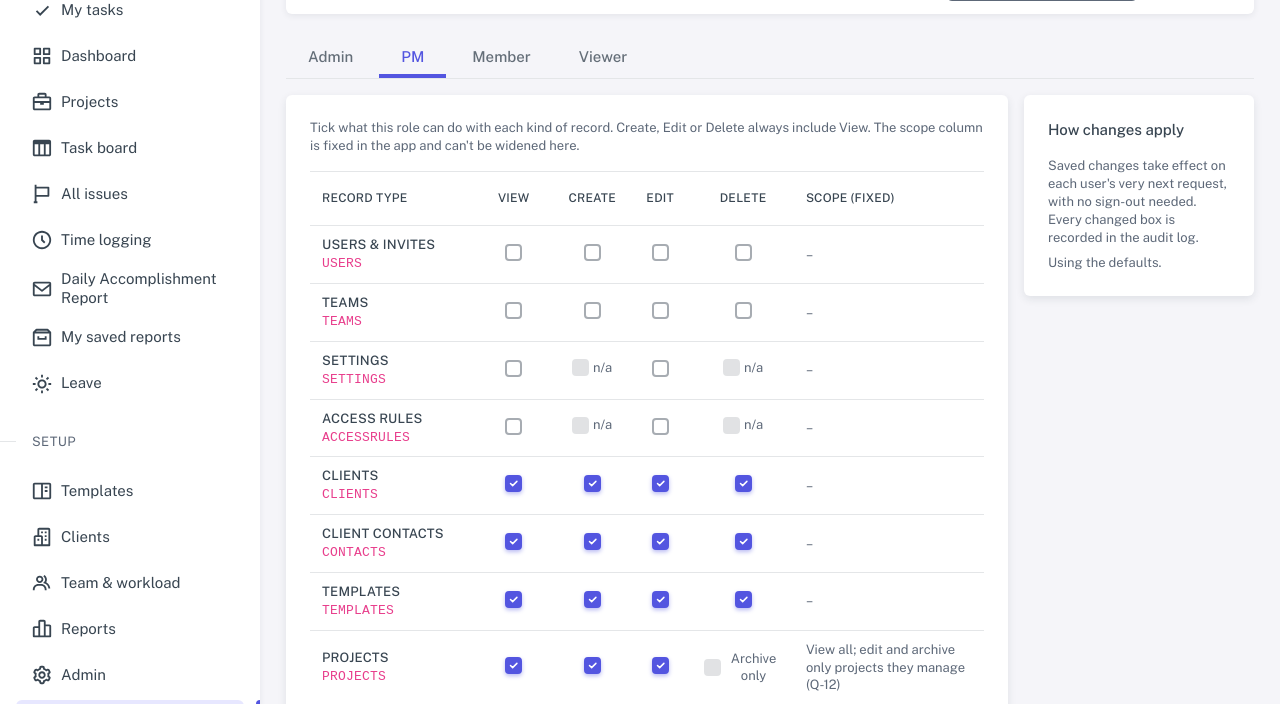
Test case: FR-ACL-14: the grid stays View/Create/Edit/Delete › Admin is locked full on both rows
This screenshot has width=1280, height=704.
Click the tab "Admin": click(331, 58) [286, 38, 375, 78]
(page scrolled)
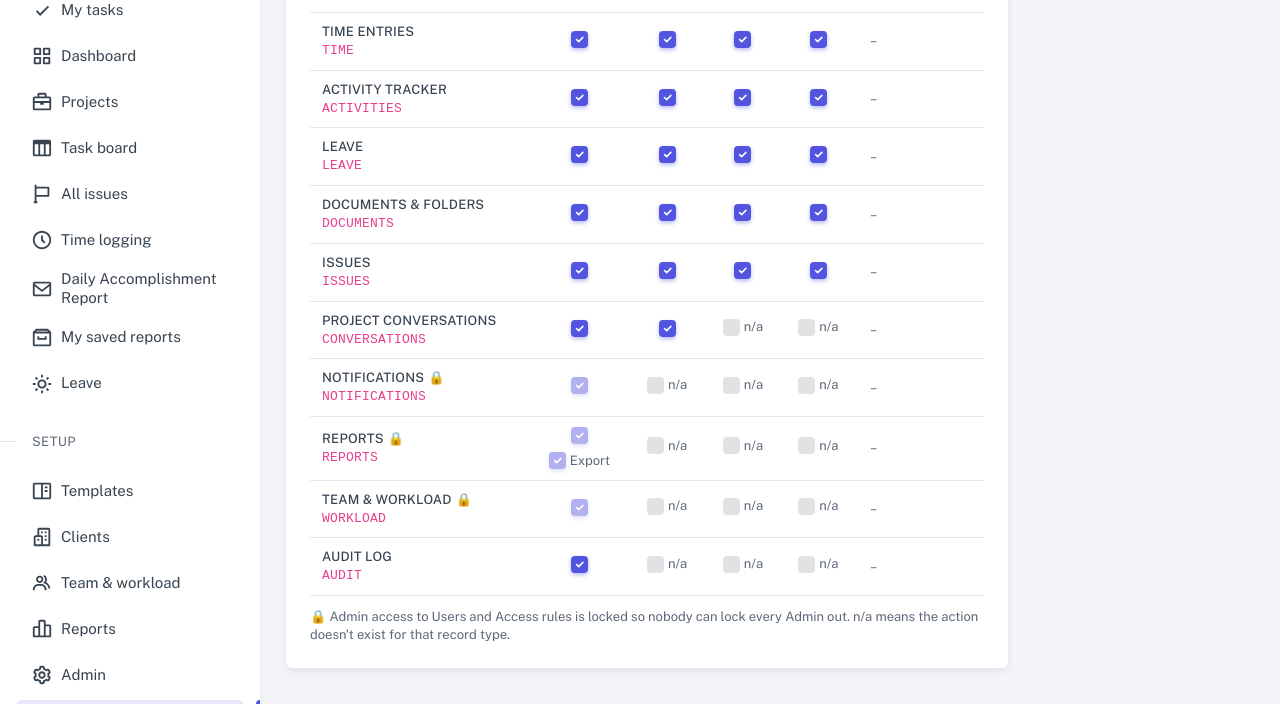
Now the checkbox named "View Reports (locked)" is disabled, box [571, 427, 588, 444]
Now the checkbox named "Export Reports (locked)" is disabled, box [549, 452, 566, 469]
Now the checkbox named "View Team & workload (locked)" is disabled, box [571, 499, 588, 516]
